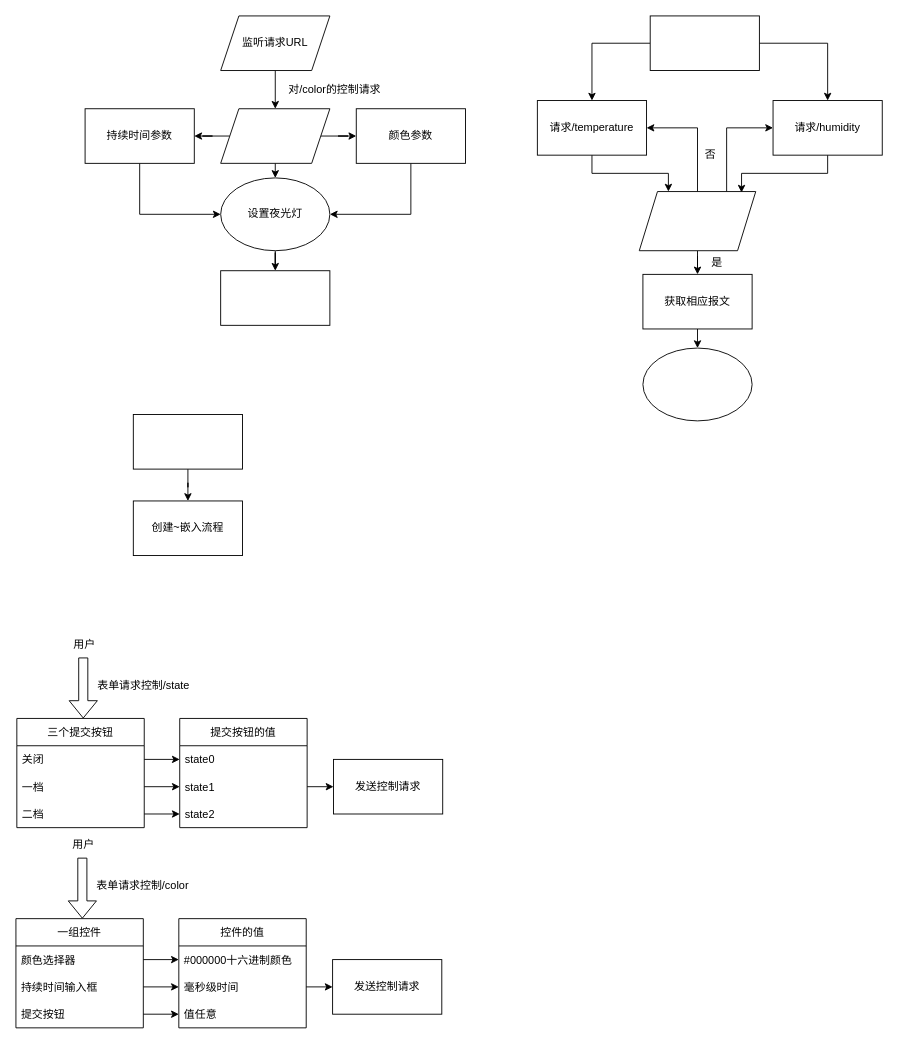
This 898x1044 diagram has some shape labels left out. Here are the shapes that lost their labels. From the top down, the centre of each, then its label:
At point 704,43: "创建报文".
At point 275,135: "检查请求报文".
At point 697,221: "报文传输完毕且正确".
At point 275,297: "发送首页".
At point 697,384: "数据嵌入网页".
At point 187,441: "setInterval(毫秒)".
